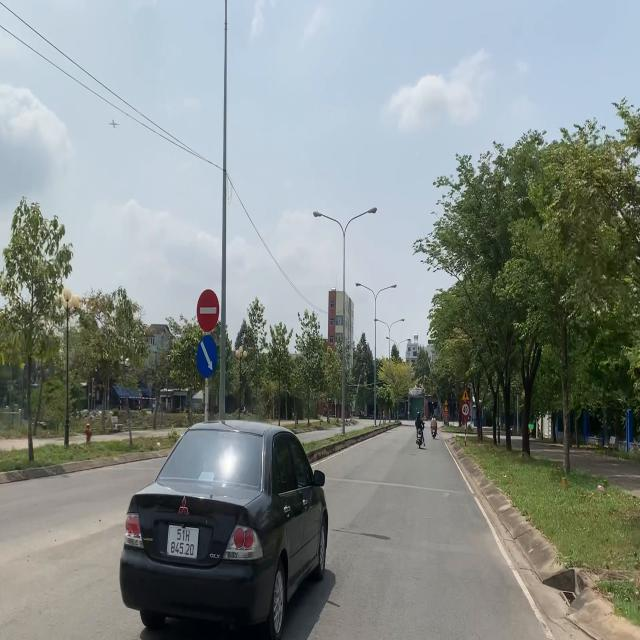Cam nguoc chieu: (196, 286, 220, 334)
Giao voi duong khong uu tien: (461, 388, 470, 401)
Hieu lenh: (195, 334, 218, 378)
Toc do toi da: (462, 403, 469, 417)
